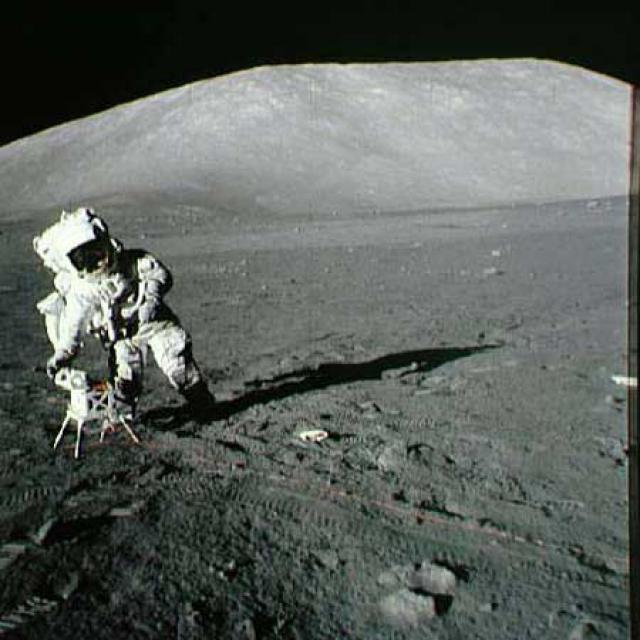artifact: (45, 363, 142, 455)
rock: (372, 554, 463, 594), (366, 588, 438, 630)
